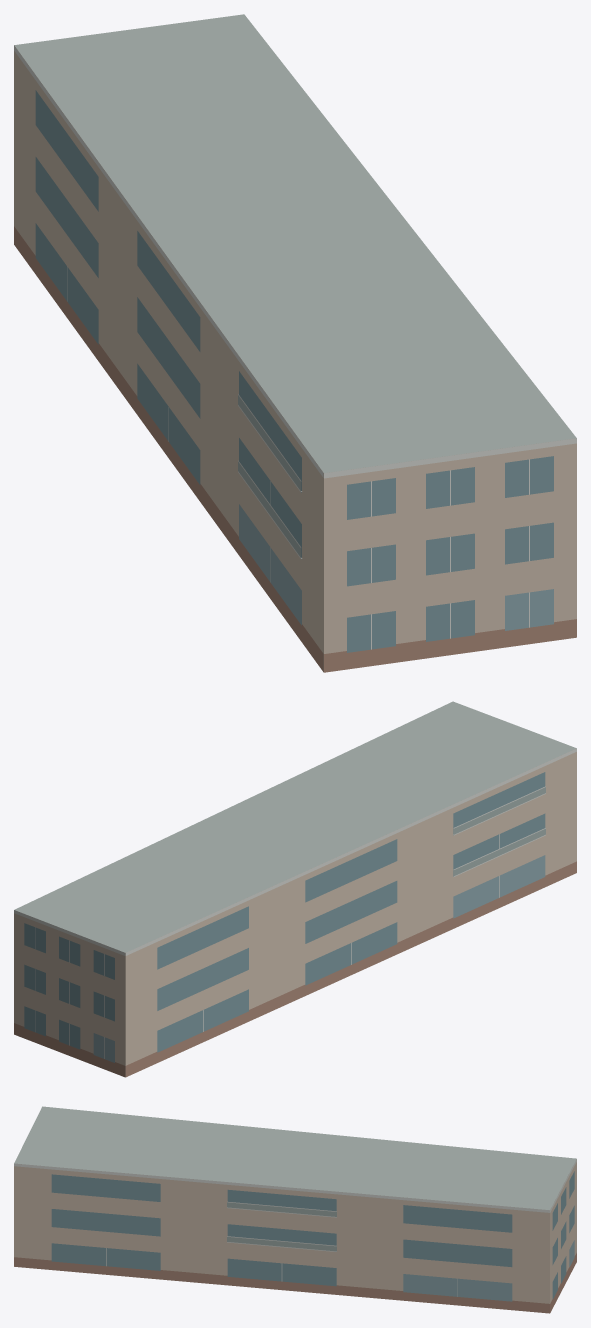
Rendered from survey-upis-32469663.glb.
3 renders of one model, top to bottom at view 1: azimuth 30°, elevation 25°; view 2: azimuth 150°, elevation 25°; view 3: azimuth 270°, elevation 25°, orthographic. The views are drawn at different scales.
Visible parts, largest first — view 1: survey-upis-32469663.tmp; view 2: survey-upis-32469663.tmp; view 3: survey-upis-32469663.tmp.
Part boxes in pixels (x1=…): survey-upis-32469663.tmp: x1=14, y1=14, x2=576, y2=672; survey-upis-32469663.tmp: x1=14, y1=701, x2=576, y2=1077; survey-upis-32469663.tmp: x1=14, y1=1106, x2=576, y2=1313.
Bounding box in the file's own units: 19.72 × 9.15 × 45.2.
